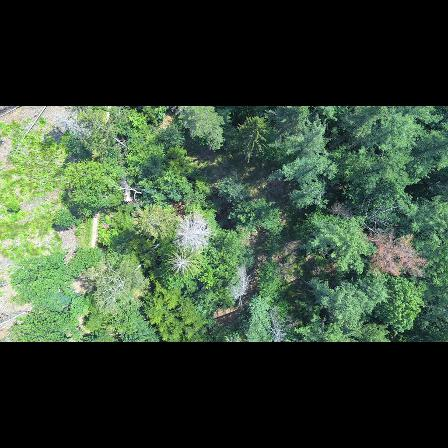Dead: (174, 213, 213, 251), (266, 309, 294, 342), (232, 268, 251, 312)
Sick: (168, 253, 196, 275)
